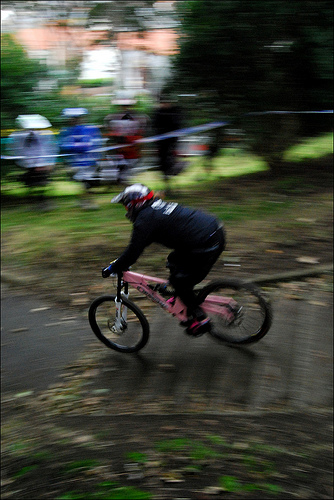helmet: (109, 189, 153, 210)
